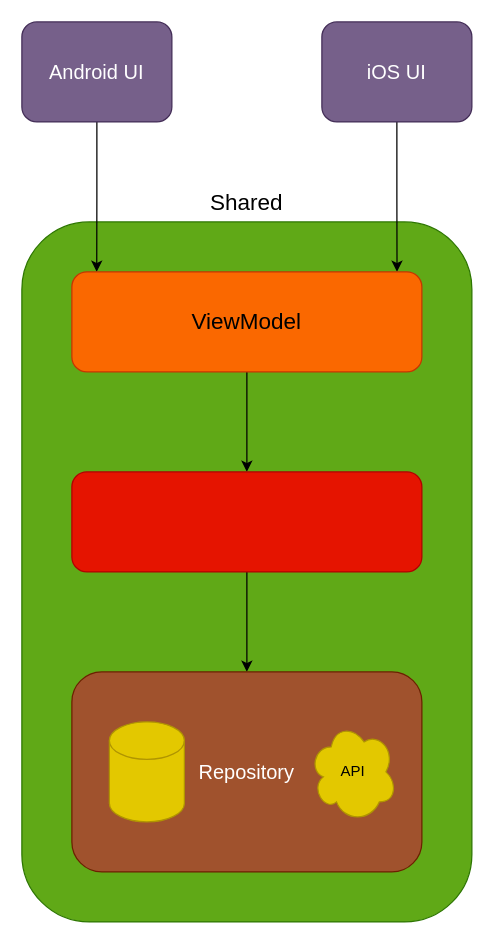
Some shapes in this 494 by 944 pixel diagram are drawn without their labels. The shapes that lost their labels are listed below. From the top down, each one's centre as x and y in pixels, then its label:
point 246,521: Use Case
point 146,771: DB
